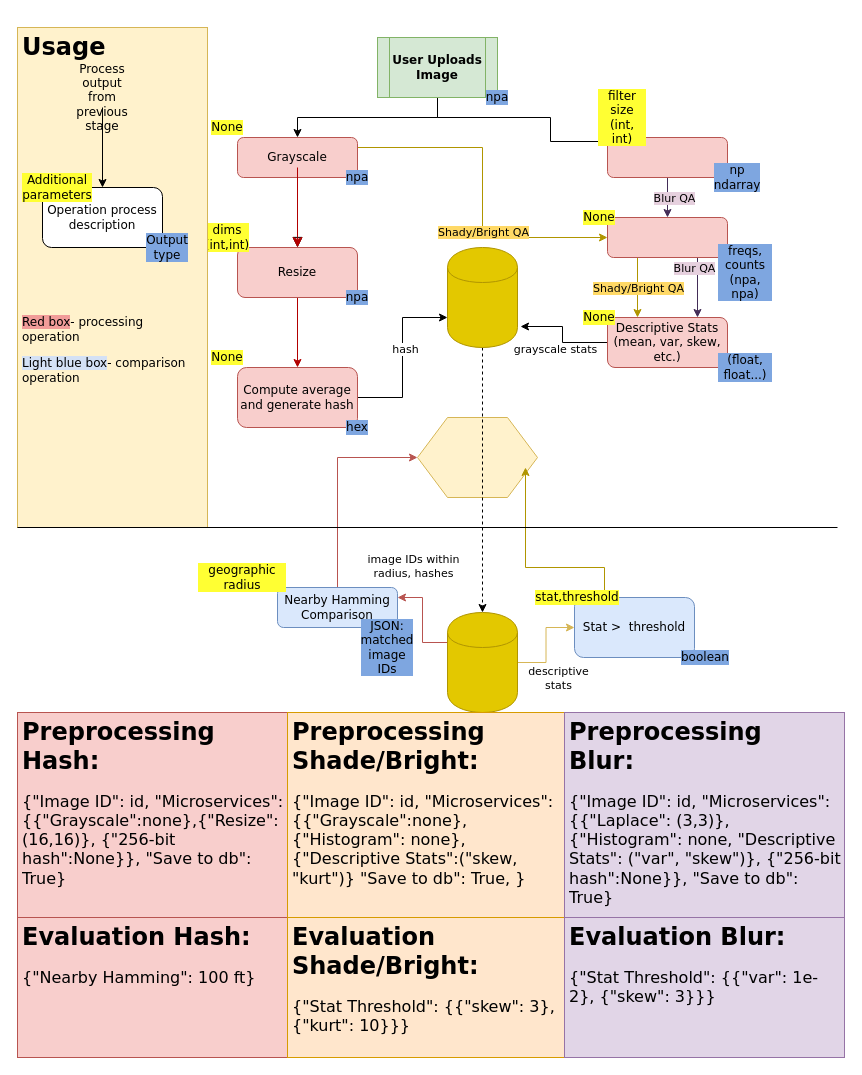
Some shapes in this 862 by 1075 pixel diagram are drawn without their labels. The shapes that lost their labels are listed below. From the top down, each one's centre as x and y in pixels, then its label:
At pixel 667 157: "Laplace Transform".
At pixel 667 237: "Histogram".
At pixel 482 297: "Insert to Analysis JSON DB".
At pixel 477 457: "All jobs complete!".
At pixel 482 662: "Read from Analysis JSON DB".
